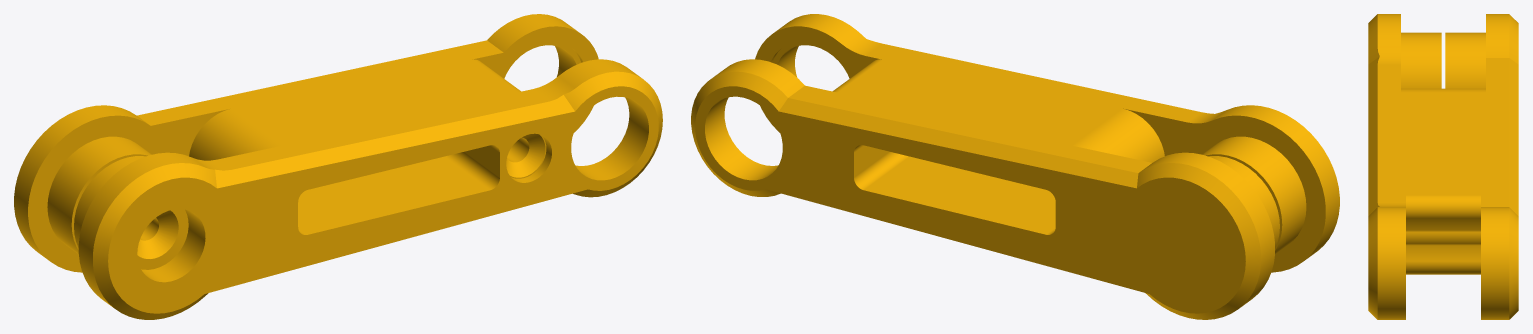
Rendered from ArmLink2.dae.
The picture shows the model from 3 angles, left to right: view 1: azimuth 30°, elevation 25°; view 2: azimuth 150°, elevation 25°; view 3: azimuth 270°, elevation 25°; orthographic projection. The views are drawn at different scales.
Visible parts, largest first — view 1: 9_ElbowRight, 10_ElbowLeft; view 2: 10_ElbowLeft, 9_ElbowRight; view 3: 10_ElbowLeft, 9_ElbowRight.
Boxes of the visible parts, box(x1,y1,x2,y2) form: 9_ElbowRight: box(74, 59, 662, 319); 10_ElbowLeft: box(14, 14, 598, 272); 10_ElbowLeft: box(691, 59, 1279, 319); 9_ElbowRight: box(755, 14, 1339, 272); 10_ElbowLeft: box(1443, 14, 1518, 319); 9_ElbowRight: box(1368, 14, 1443, 319).
Bounding box in the file's own units: 0.0585 × 0.016 × 0.015.
